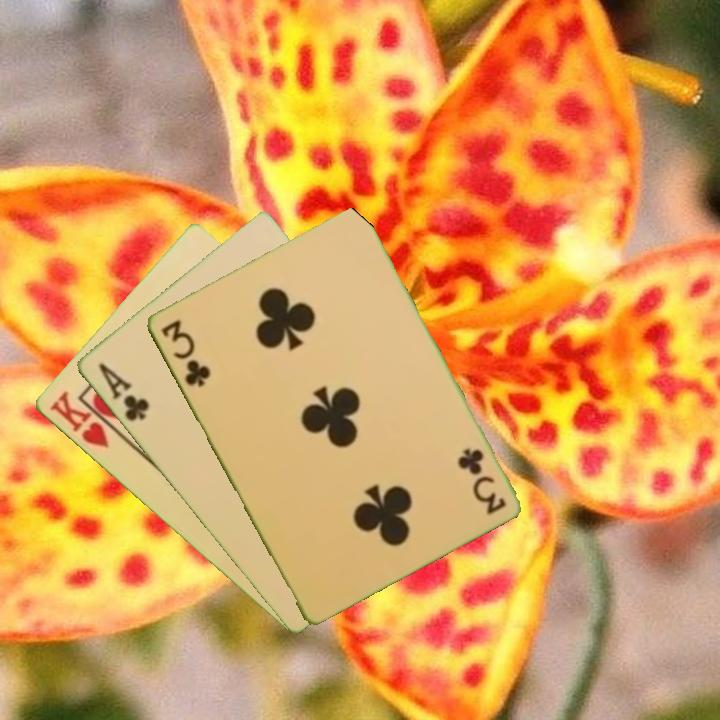3c: (157, 315, 213, 391), (454, 444, 508, 518)
Ac: (94, 359, 152, 425)
Kh: (45, 387, 124, 451)
